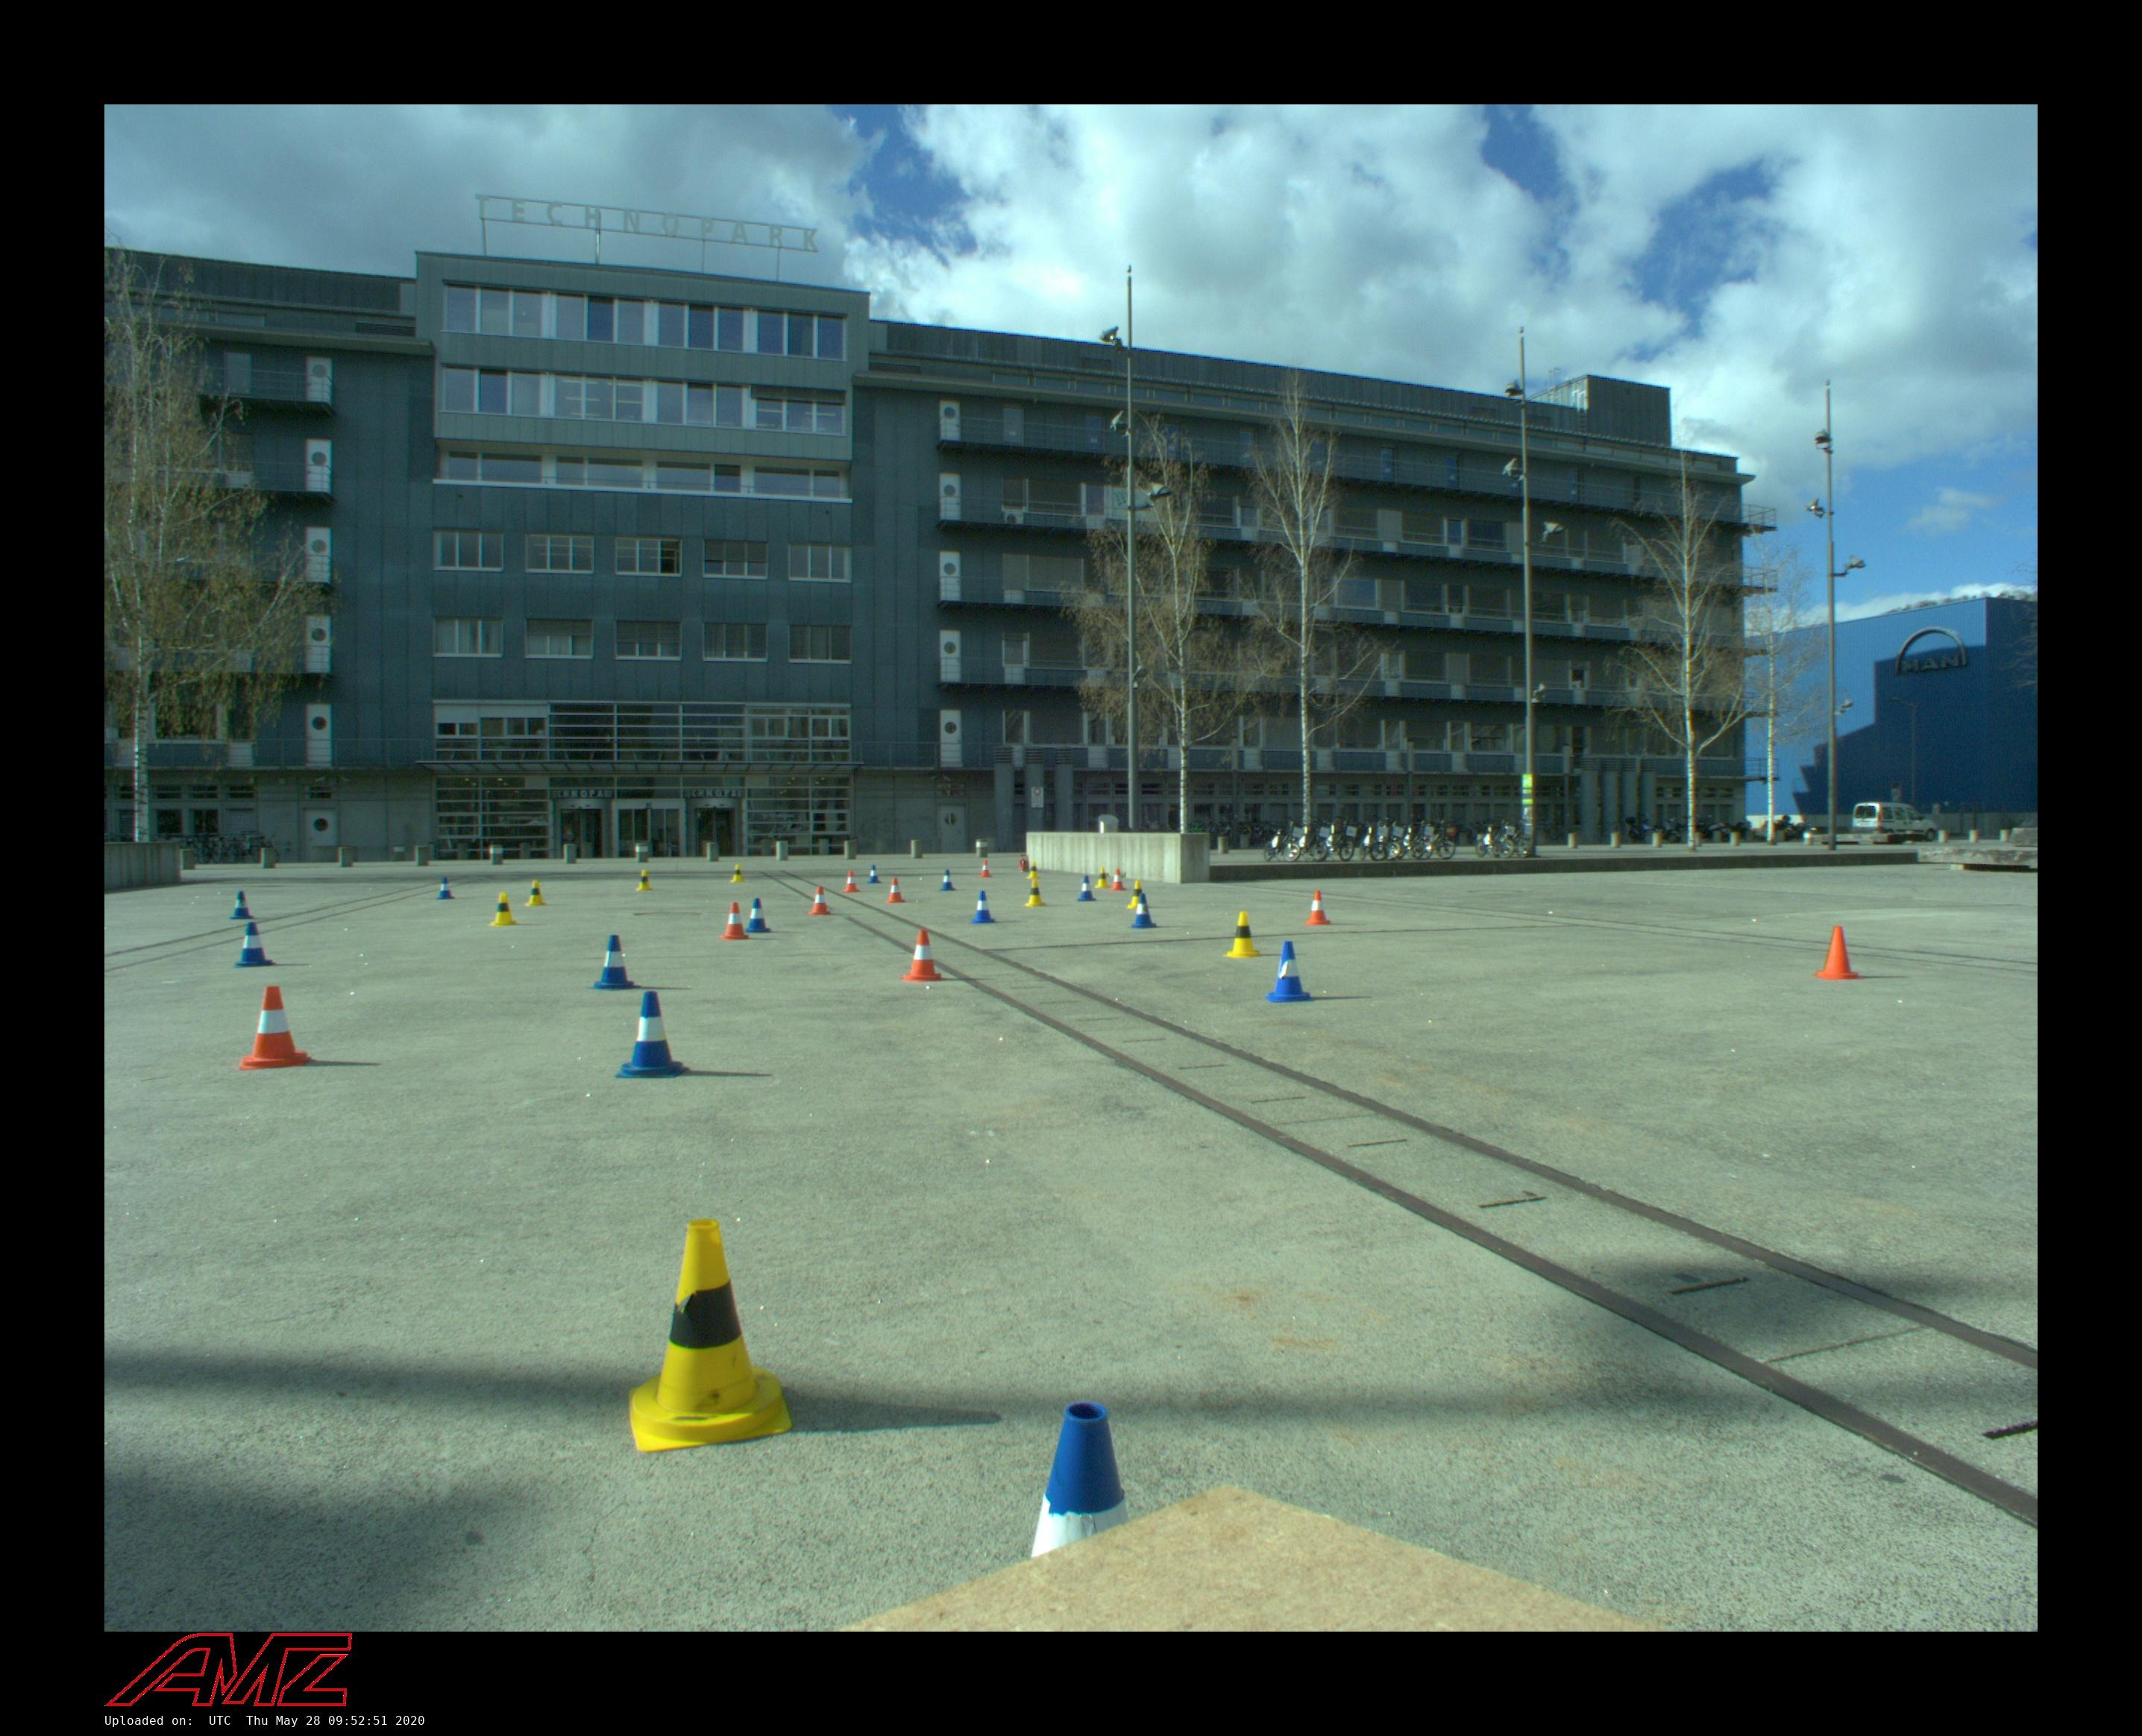blue_cone: (615, 990, 691, 1079), (1265, 941, 1315, 1003), (588, 934, 641, 990), (236, 921, 275, 967), (1130, 893, 1159, 928), (746, 898, 771, 934), (971, 891, 996, 925), (230, 891, 253, 919), (1075, 875, 1097, 902), (438, 877, 455, 900), (939, 870, 957, 891), (868, 864, 881, 884)
orange_cone: (241, 985, 312, 1070), (1814, 925, 1864, 980), (904, 930, 944, 981), (721, 902, 749, 939), (1304, 891, 1331, 925), (808, 886, 831, 916), (886, 877, 905, 903), (1109, 868, 1127, 891), (843, 870, 859, 893), (980, 859, 992, 877)
yellow_cone: (631, 1217, 794, 1453), (1222, 911, 1260, 958), (489, 891, 517, 926), (1024, 877, 1047, 907), (524, 880, 547, 907), (1127, 879, 1143, 909), (636, 868, 652, 891), (1095, 866, 1111, 887), (732, 864, 746, 882), (1026, 861, 1040, 879)
